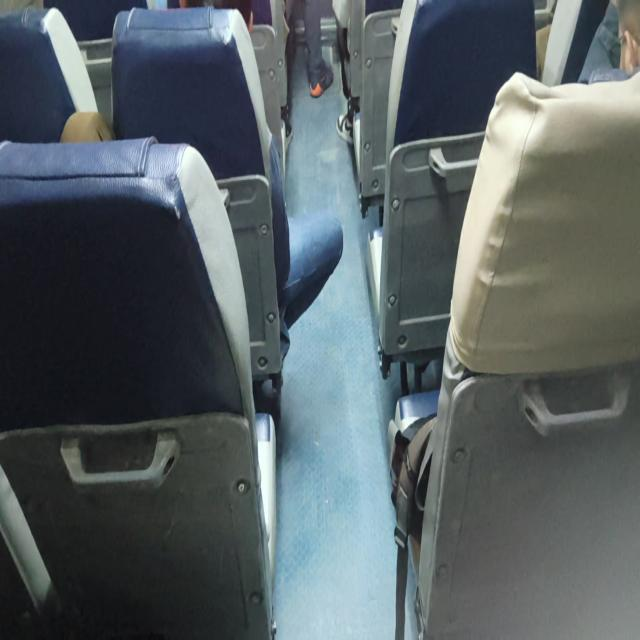person: (412, 1, 639, 637), (59, 2, 343, 372), (578, 0, 640, 84), (285, 0, 334, 98)
